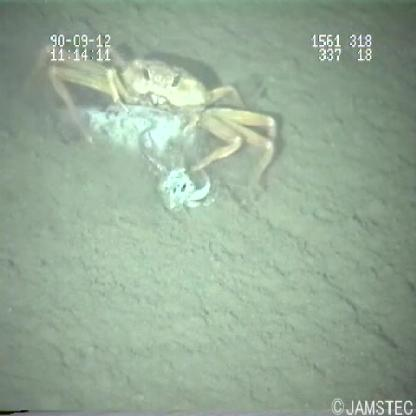Bio: (24, 39, 284, 216)
